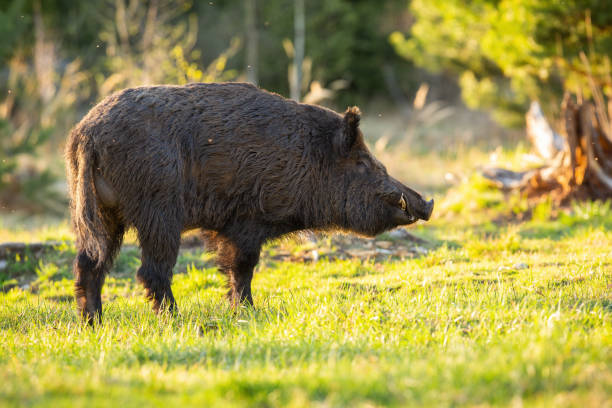pig: (63, 87, 437, 296)
